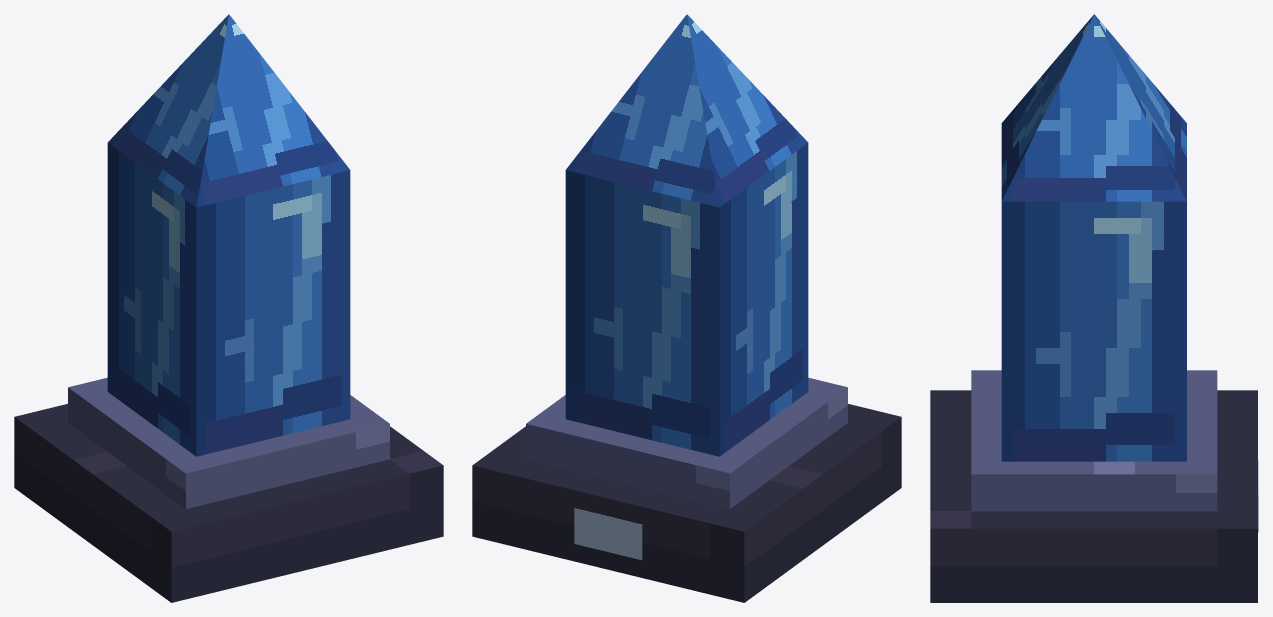
The model's file is relay_crystal.obj.
The picture shows the model from 3 angles, left to right: view 1: azimuth 30°, elevation 25°; view 2: azimuth 150°, elevation 25°; view 3: azimuth 270°, elevation 25°; orthographic projection. The views are drawn at different scales.
Visible parts, largest first — view 1: Relay point, Mineral foot, Crystal socket; view 2: Relay point, Mineral foot, Crystal socket, Channel inlay; view 3: Relay point, Mineral foot, Crystal socket.
Part boxes in pixels (box(x1,y1,x2,y2)): Relay point: box(107, 14, 350, 456); Mineral foot: box(14, 404, 443, 602); Crystal socket: box(68, 377, 389, 508); Relay point: box(565, 14, 808, 456); Mineral foot: box(472, 404, 901, 602); Crystal socket: box(526, 377, 847, 508); Channel inlay: box(574, 508, 642, 560); Relay point: box(1001, 14, 1186, 461); Mineral foot: box(930, 390, 1257, 602); Crystal socket: box(971, 370, 1217, 511).
Size of the model in its own units: 0.5 by 0.875 by 0.5006.
